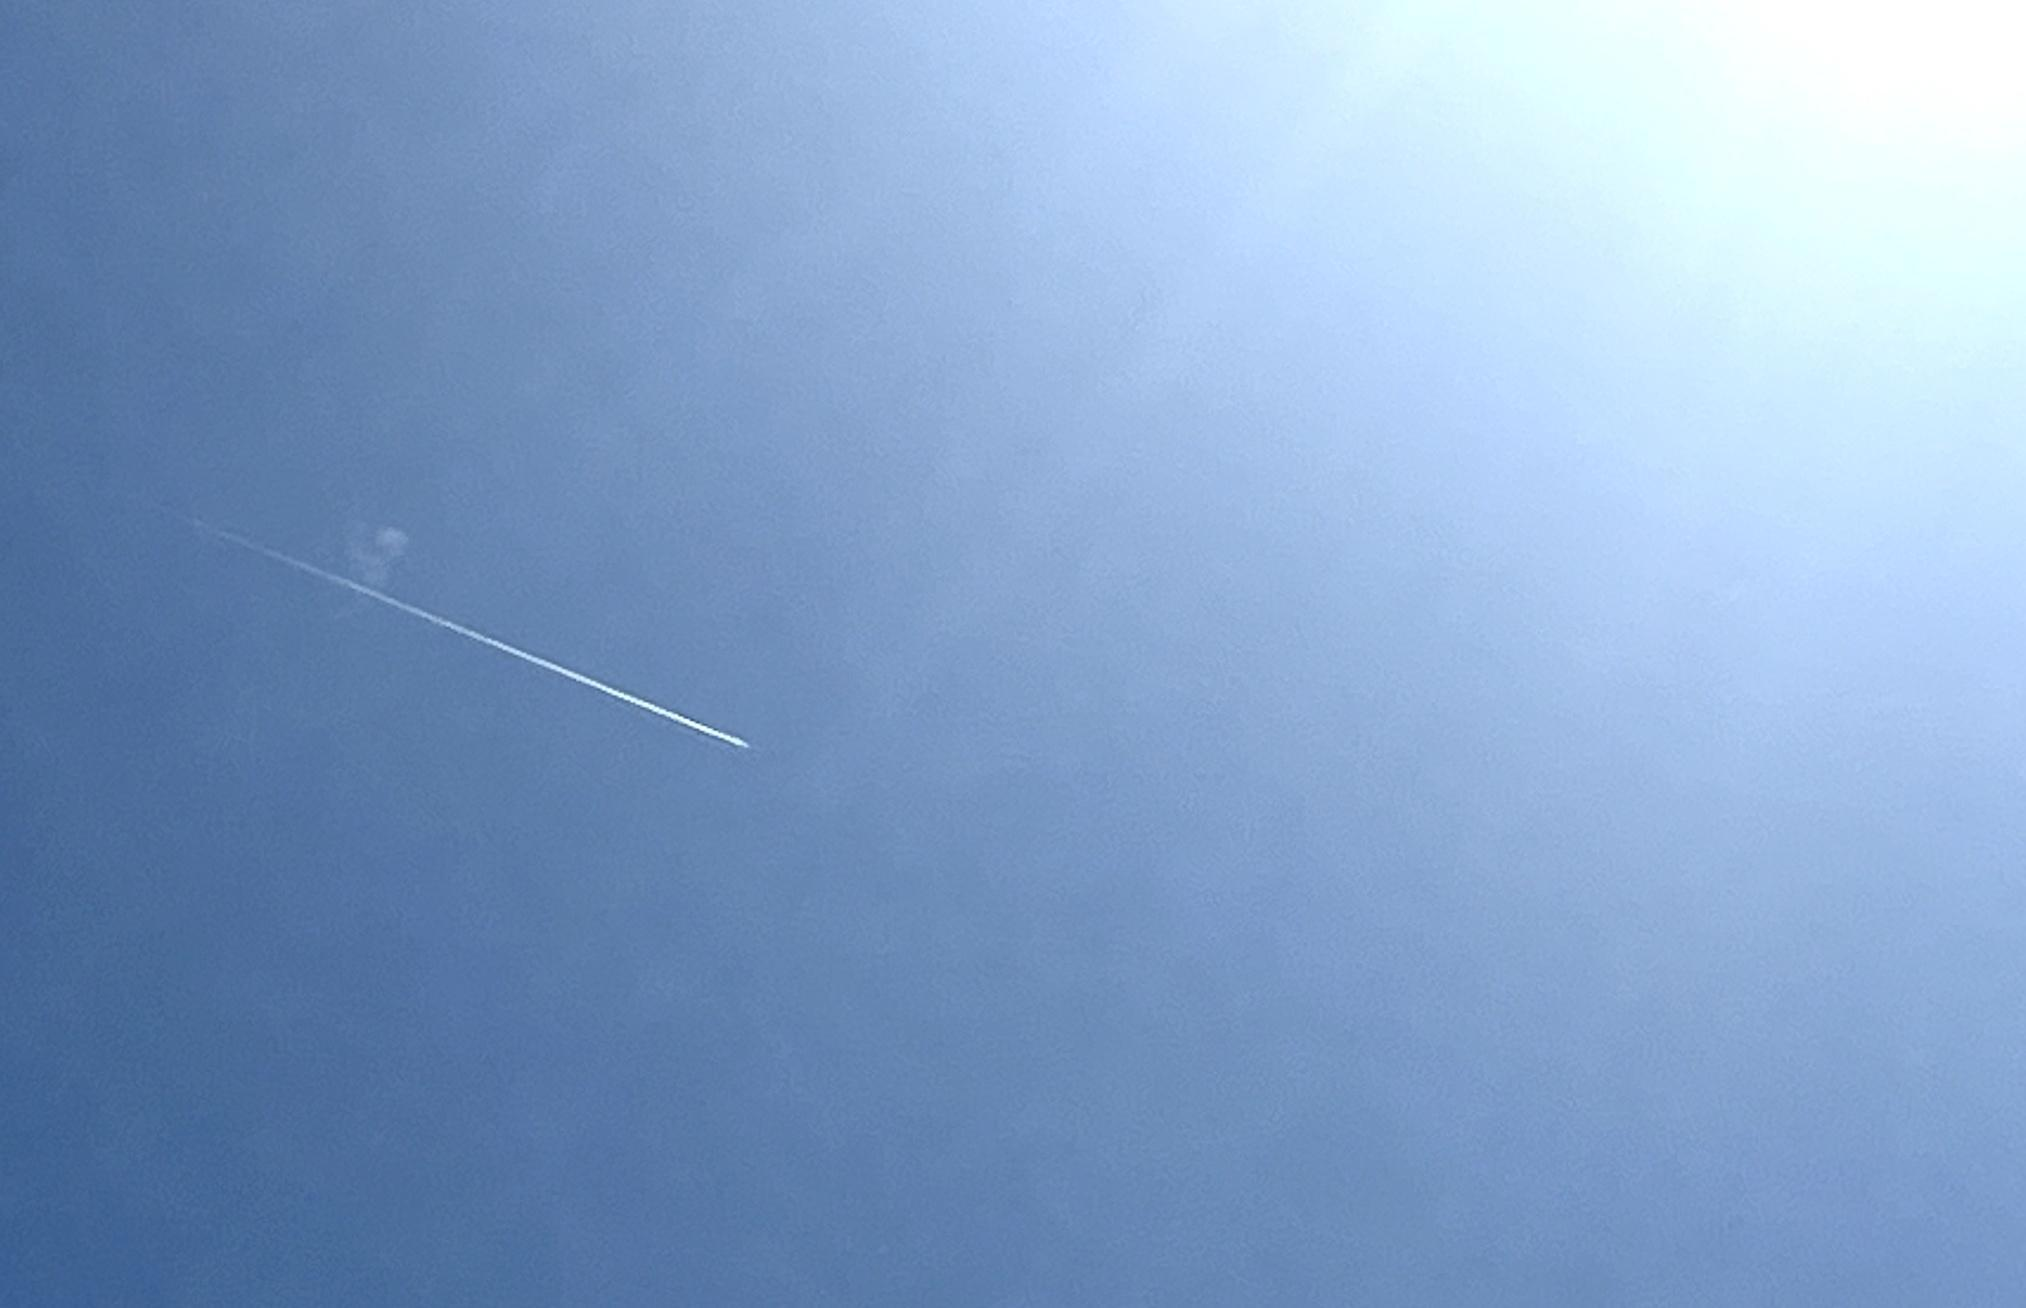Plane: (473, 599, 803, 793)
